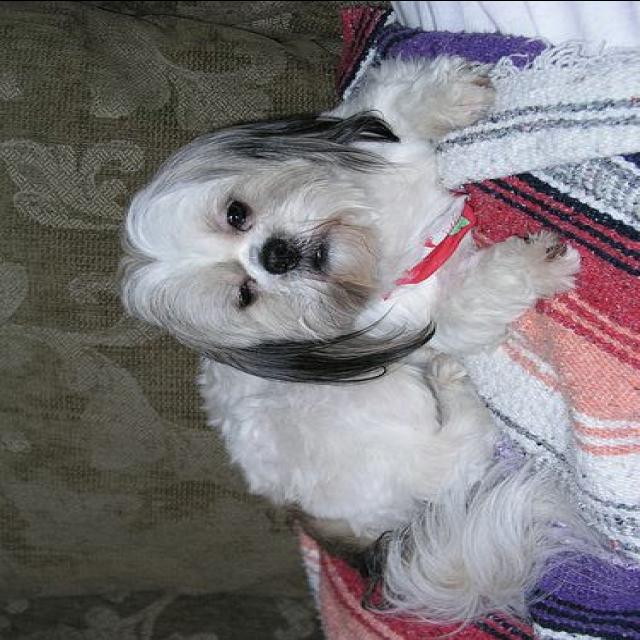shih_tzu: (113, 47, 616, 635)
